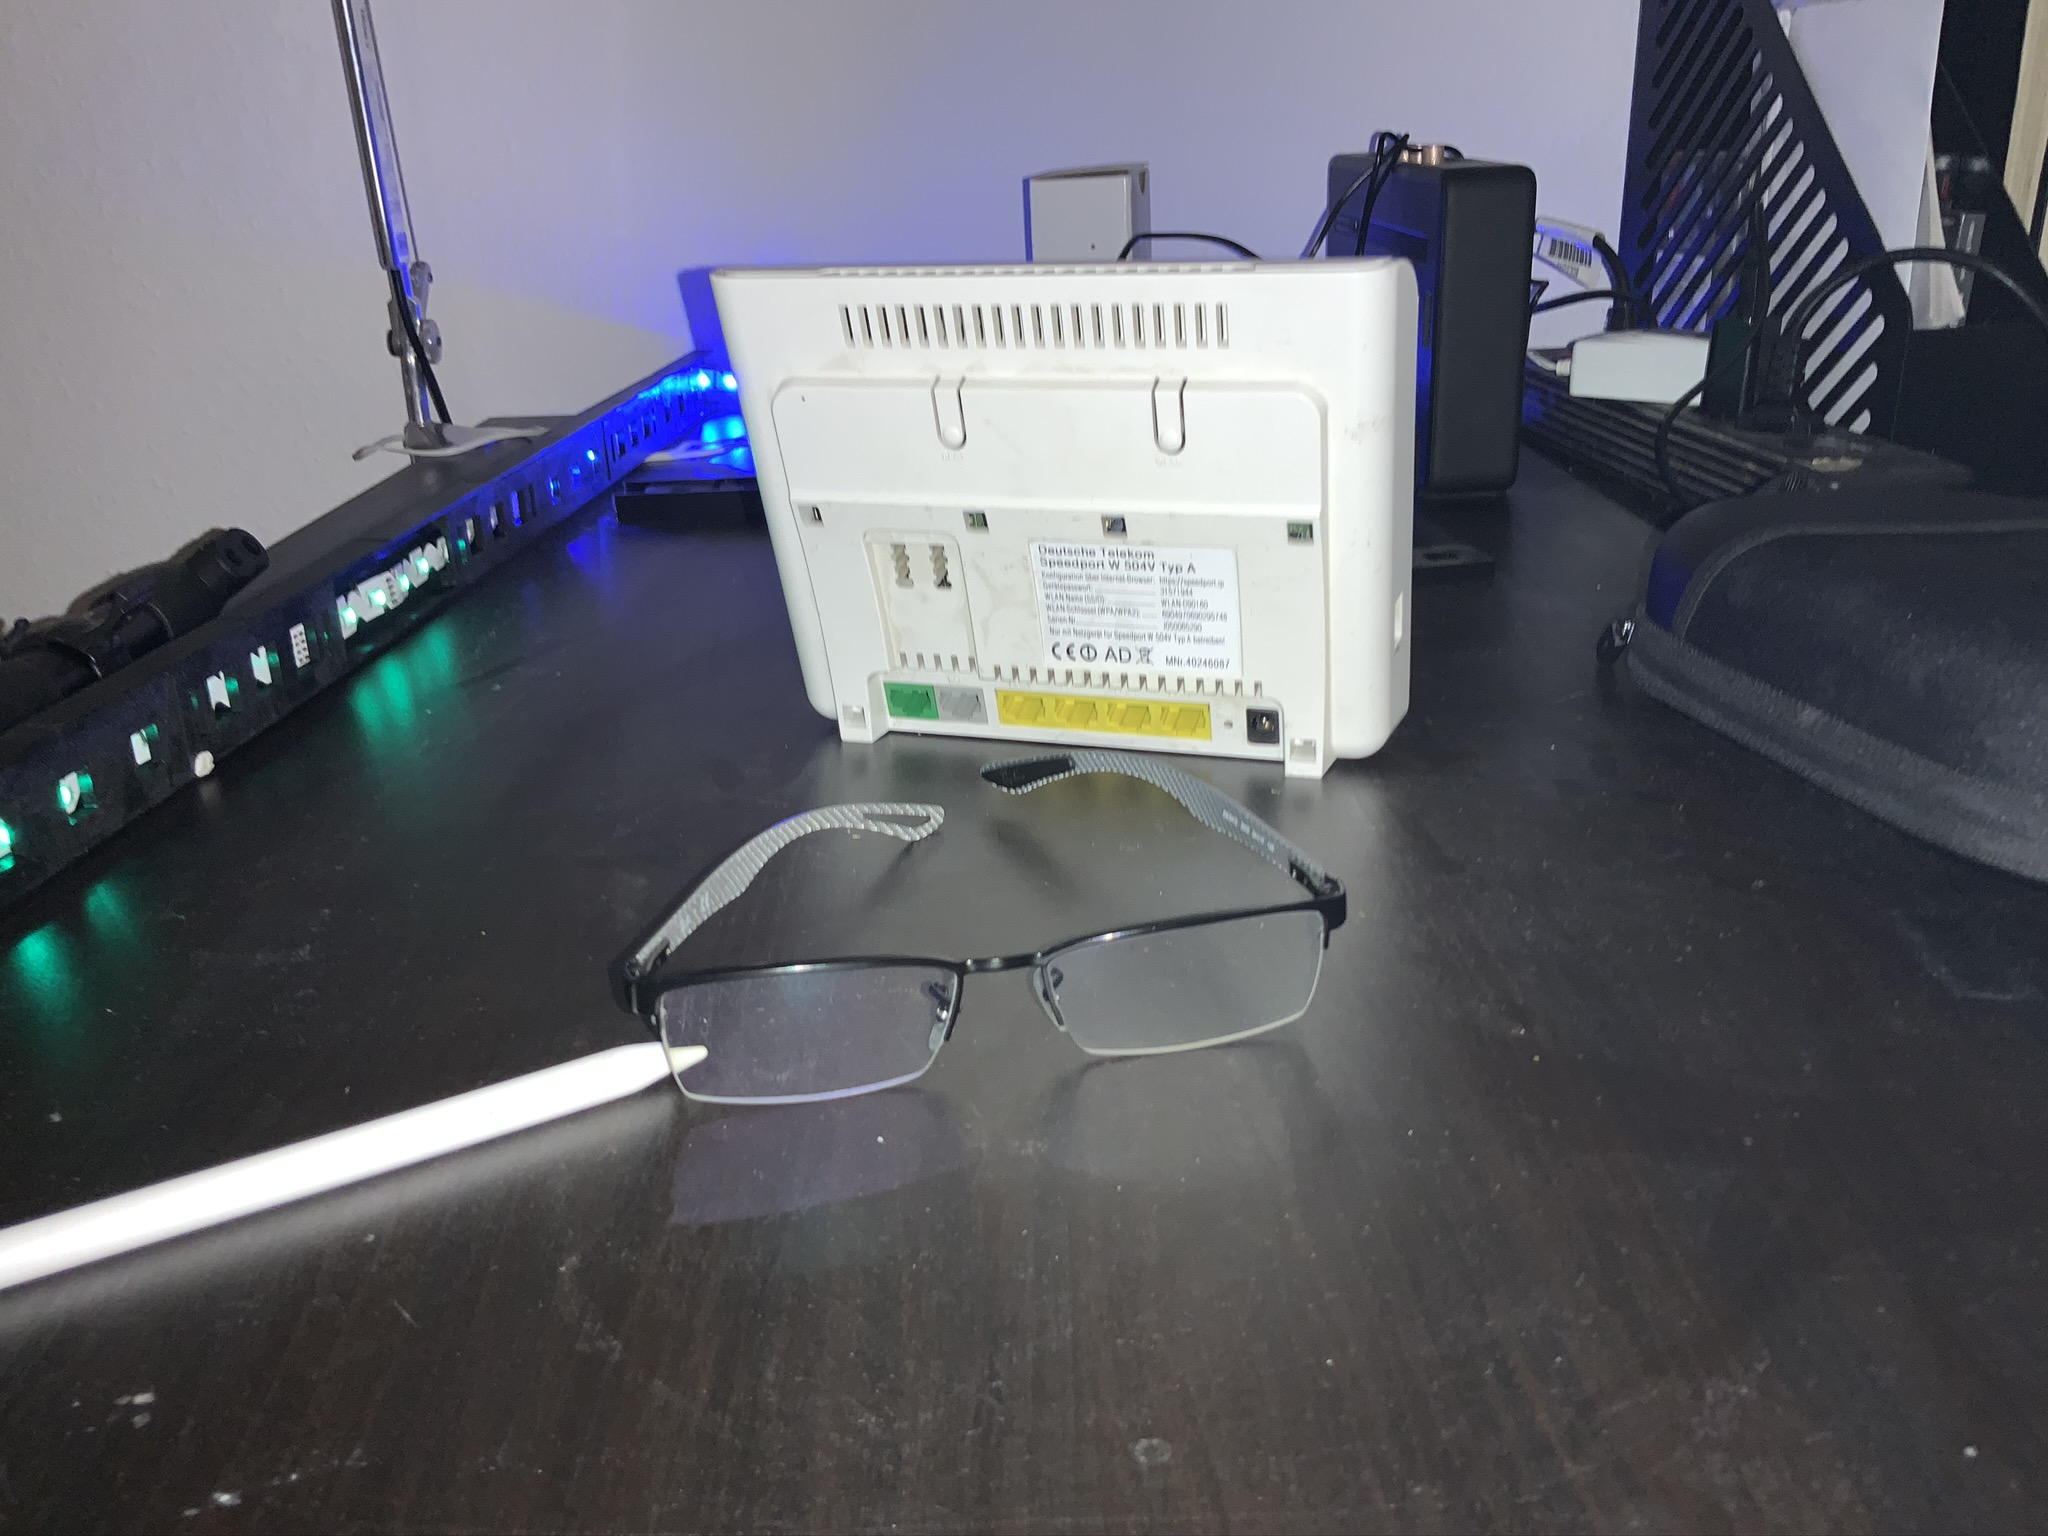Router2: (700, 245, 1430, 795)
